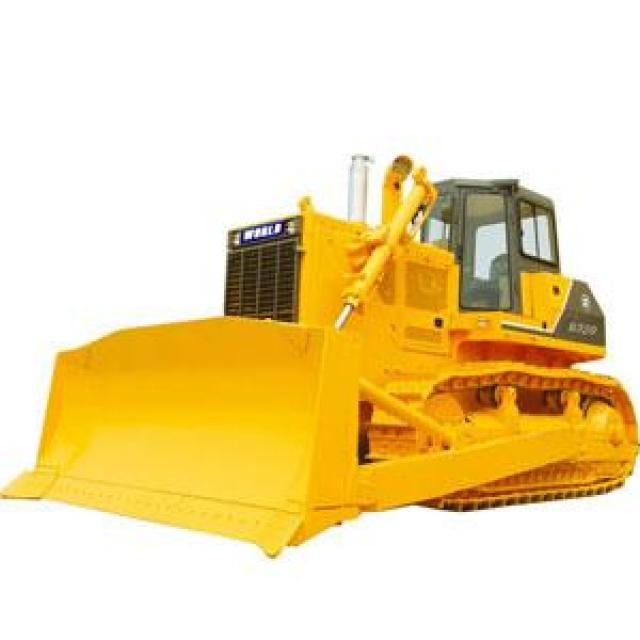Bulldozer: (6, 137, 638, 563)
